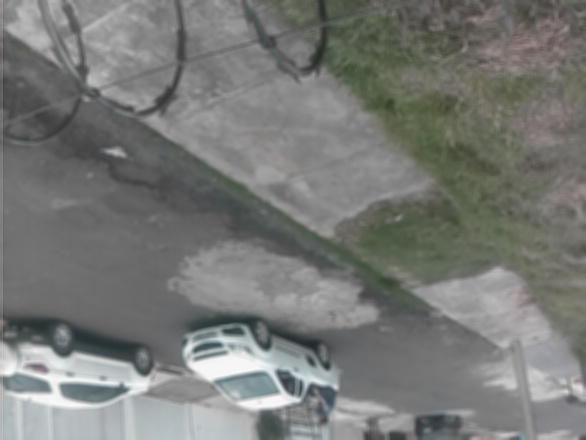person: (309, 385, 337, 424)
